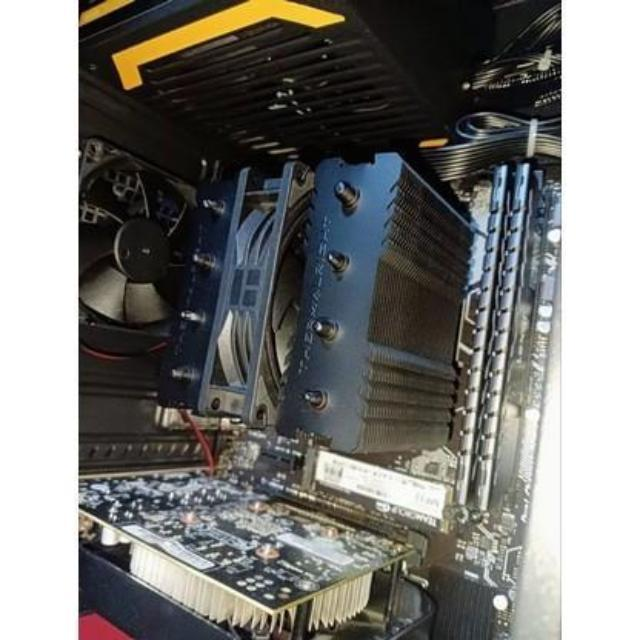CPU_Fan: (193, 148, 470, 462)
